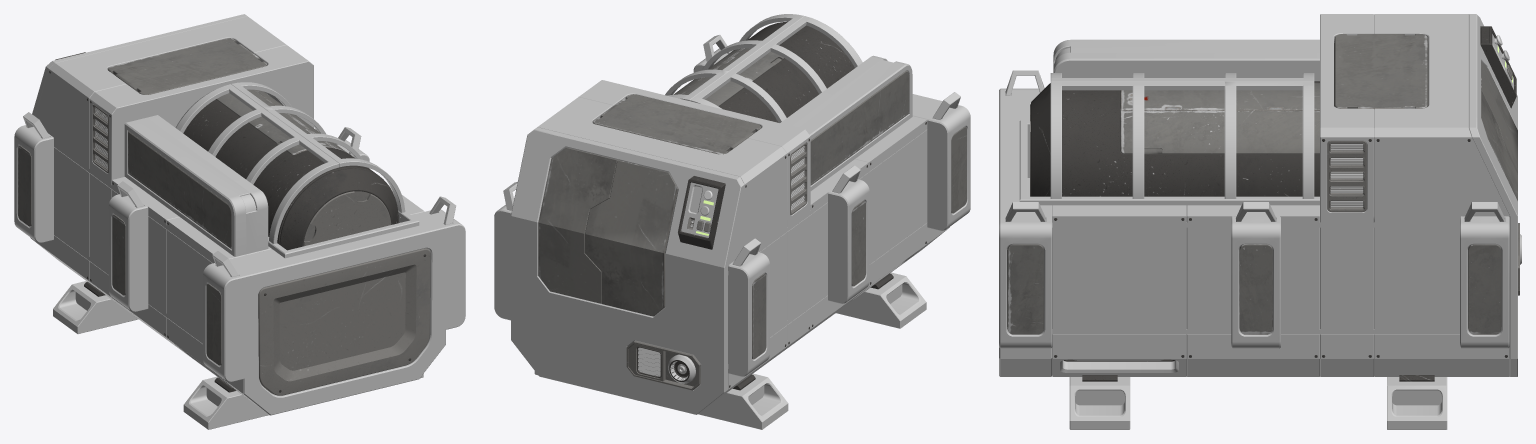
File: KB3D_MTM_PropGenerator_A.fbx
3 views of the same model, side by side, from view 1: azimuth 30°, elevation 25°; view 2: azimuth 150°, elevation 25°; view 3: azimuth 270°, elevation 25° (orthographic). The views are drawn at different scales.
Visible parts, largest first — view 1: KB3D_MTM_PropGenerator_A_Main; view 2: KB3D_MTM_PropGenerator_A_Main; view 3: KB3D_MTM_PropGenerator_A_Main.
Part boxes in pixels (x1=…): KB3D_MTM_PropGenerator_A_Main: x1=14, y1=14, x2=465, y2=429; KB3D_MTM_PropGenerator_A_Main: x1=494, y1=14, x2=970, y2=429; KB3D_MTM_PropGenerator_A_Main: x1=999, y1=14, x2=1521, y2=429.
Bounding box in the file's own units: 163 × 158 × 253.
